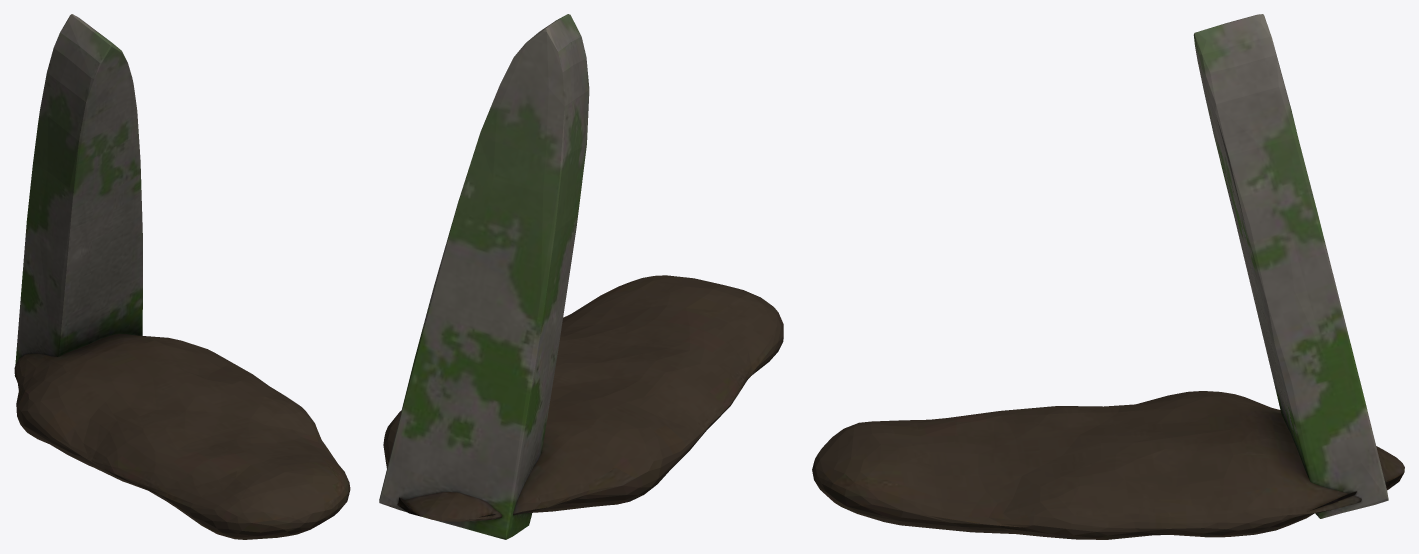
Rendered from vespera_lapide_c.glb.
3 renders of one model, left to right at view 1: azimuth 30°, elevation 25°; view 2: azimuth 150°, elevation 25°; view 3: azimuth 270°, elevation 25°, orthographic. The views are drawn at different scales.
Visible parts, largest first — view 1: vespera_lapide_c_tronco; view 2: vespera_lapide_c_tronco; view 3: vespera_lapide_c_tronco.
Boxes of the visible parts, box(x1,y1,x2,y2) form: vespera_lapide_c_tronco: box(14, 14, 350, 539); vespera_lapide_c_tronco: box(379, 14, 783, 539); vespera_lapide_c_tronco: box(812, 14, 1404, 539).
Size of the model in its own units: 0.7759 by 1.39 by 1.56.
1 material, 1 textured.
